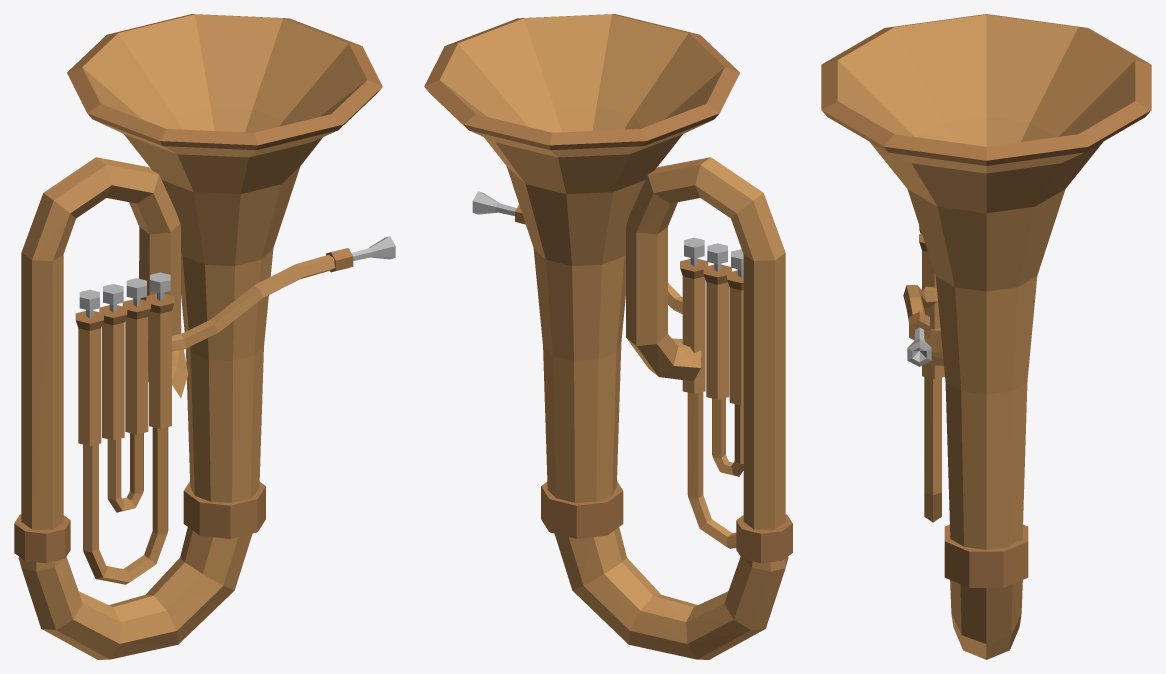
File: tuba-a7b667.glb
The picture shows the model from 3 angles, left to right: view 1: azimuth 30°, elevation 25°; view 2: azimuth 150°, elevation 25°; view 3: azimuth 270°, elevation 25°; orthographic projection. The views are drawn at different scales.
Visible parts, largest first — view 1: tuba-body, mouthpiece-mesh; view 2: tuba-body, mouthpiece-mesh; view 3: tuba-body, mouthpiece-mesh.
Boxes of the visible parts, left/top/right/bottom form: tuba-body: left=14, top=14, right=382, bottom=659; mouthpiece-mesh: left=351, top=236, right=395, bottom=260; tuba-body: left=424, top=14, right=792, bottom=659; mouthpiece-mesh: left=472, top=191, right=516, bottom=215; tuba-body: left=821, top=14, right=1151, bottom=659; mouthpiece-mesh: left=907, top=327, right=931, bottom=366.
Bounding box in the file's own units: 0.5828 × 0.9049 × 0.4451.
